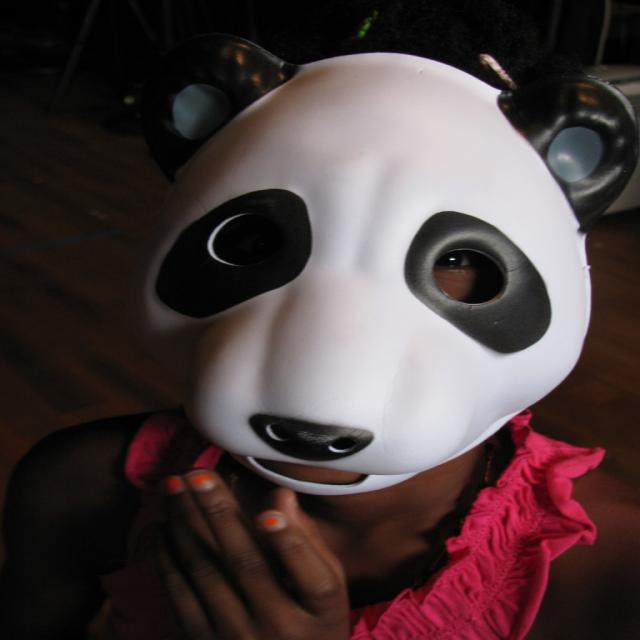panda: (124, 40, 639, 499)
